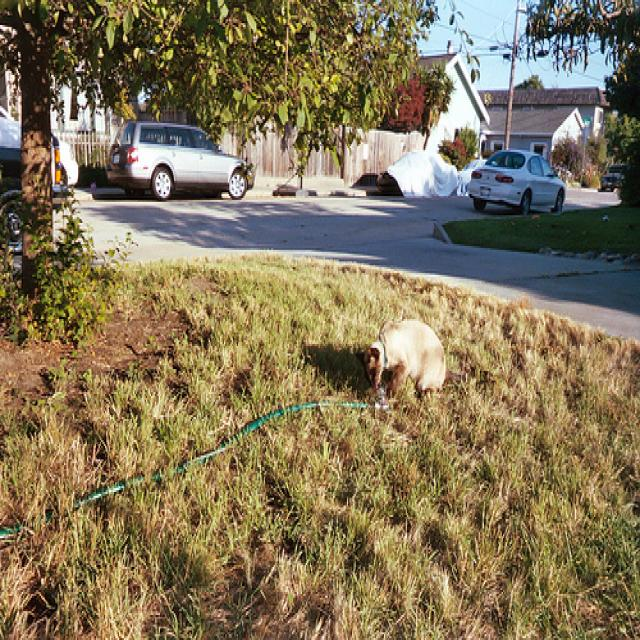car: (105, 118, 257, 201), (1, 104, 71, 256), (466, 147, 569, 218)
cat: (353, 318, 449, 399)
